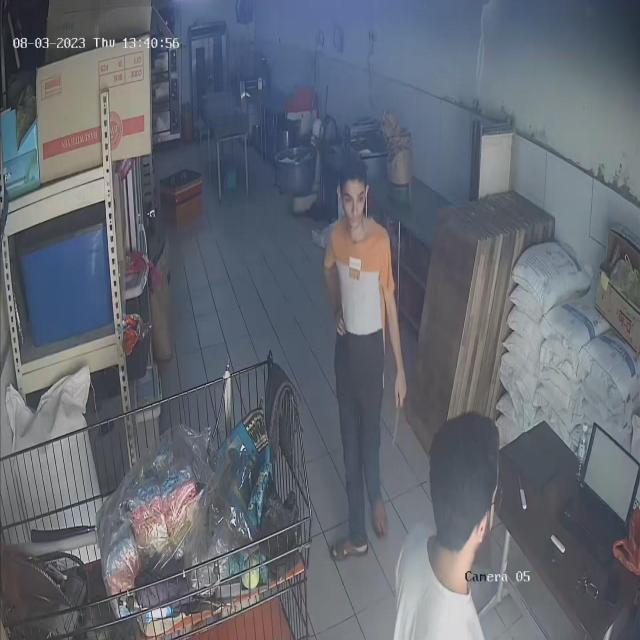Knife: (389, 396, 410, 456)
